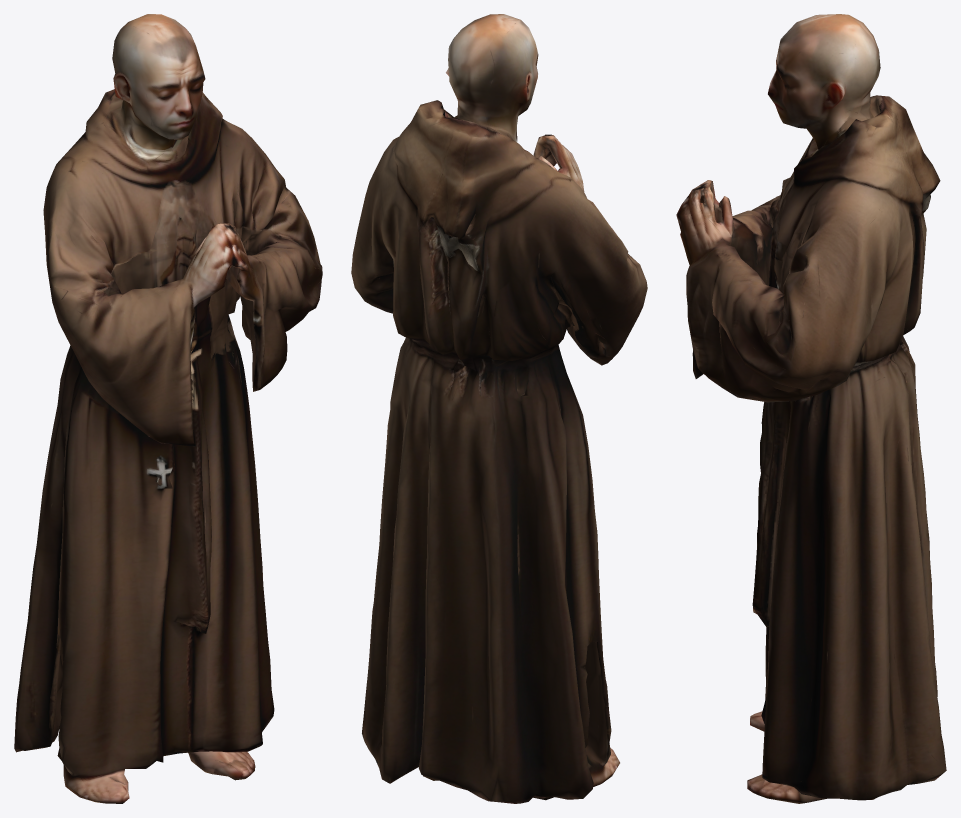
Rendered from Meshy_AI_un_frate_semplice_in__0308160614_texture.fbx.
The picture shows the model from 3 angles, left to right: view 1: azimuth 30°, elevation 25°; view 2: azimuth 150°, elevation 25°; view 3: azimuth 270°, elevation 25°; orthographic projection.
Visible parts, largest first — view 1: Mesh_0; view 2: Mesh_0; view 3: Mesh_0.
Part boxes in pixels (left/top/right/bottom): Mesh_0: left=14, top=14, right=322, bottom=803; Mesh_0: left=351, top=14, right=647, bottom=803; Mesh_0: left=676, top=14, right=946, bottom=803.
Size of the model in its own units: 76.1 by 201 by 65.24.
1 material, 1 textured.
